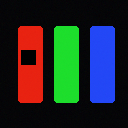1 square: (21, 50, 35, 64)
